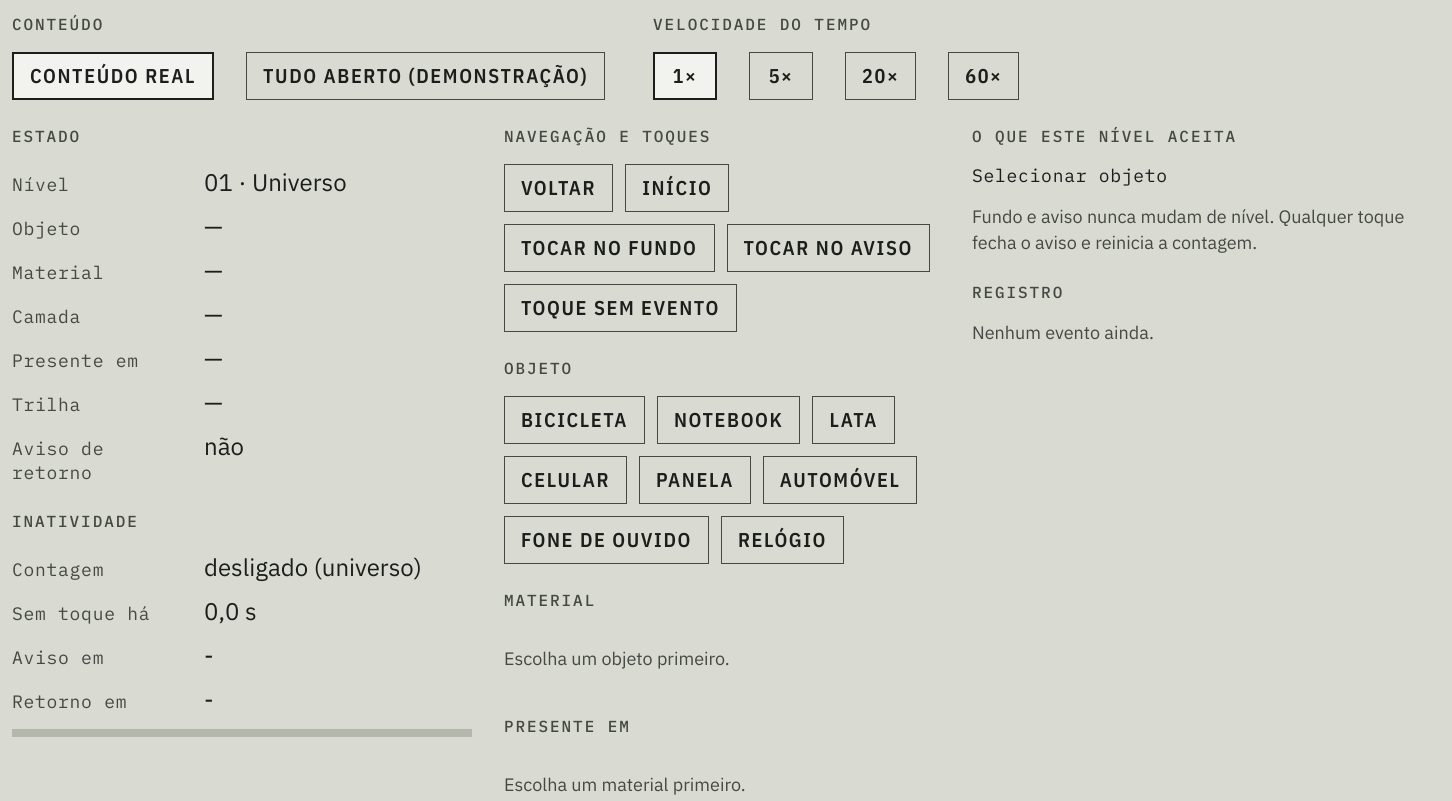
it: ExperienceTab › walks the short journey and writes the log
Click the button "Bicicleta": (574, 420) [504,396,645,444]
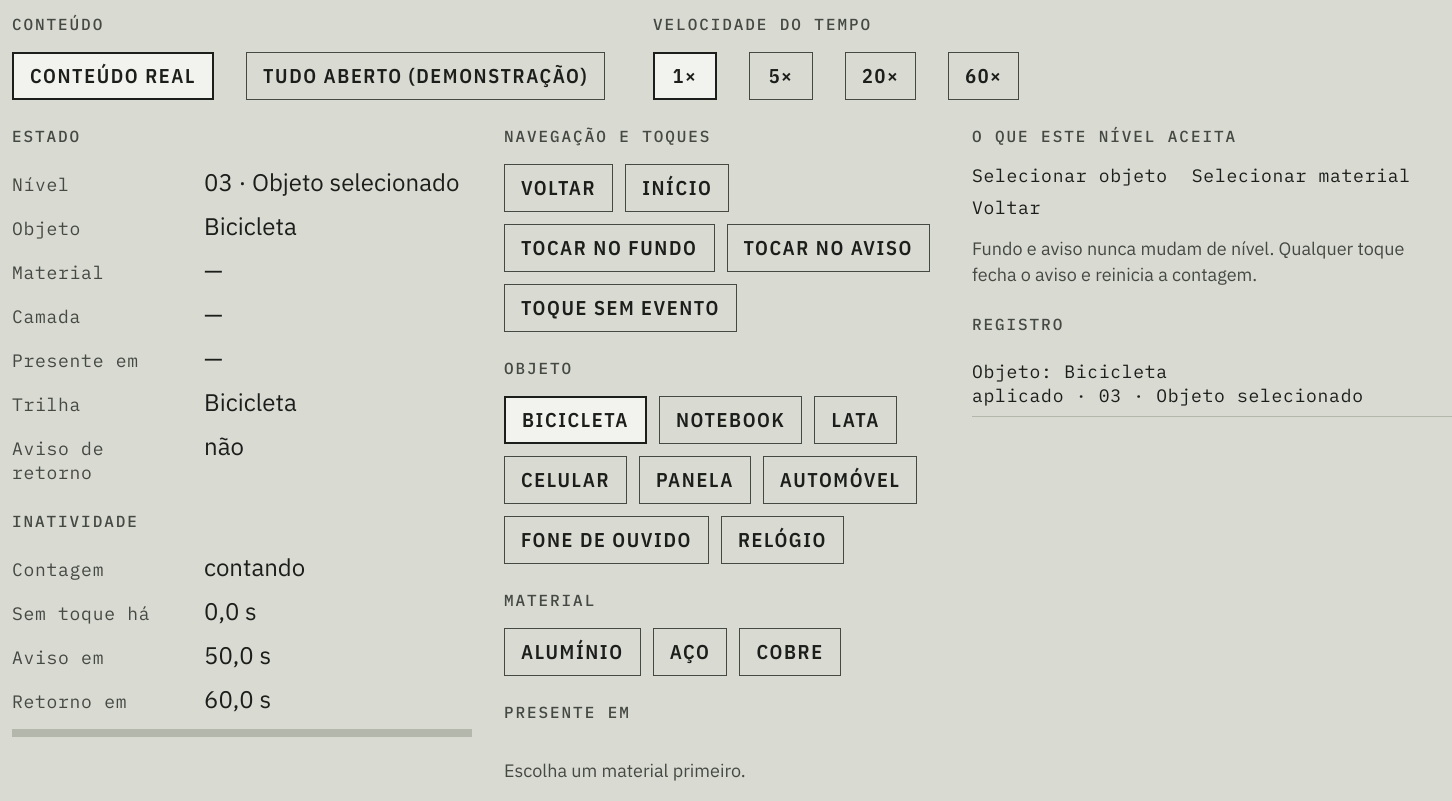
Click the button "Alumínio": (572, 652) [504,628,641,676]
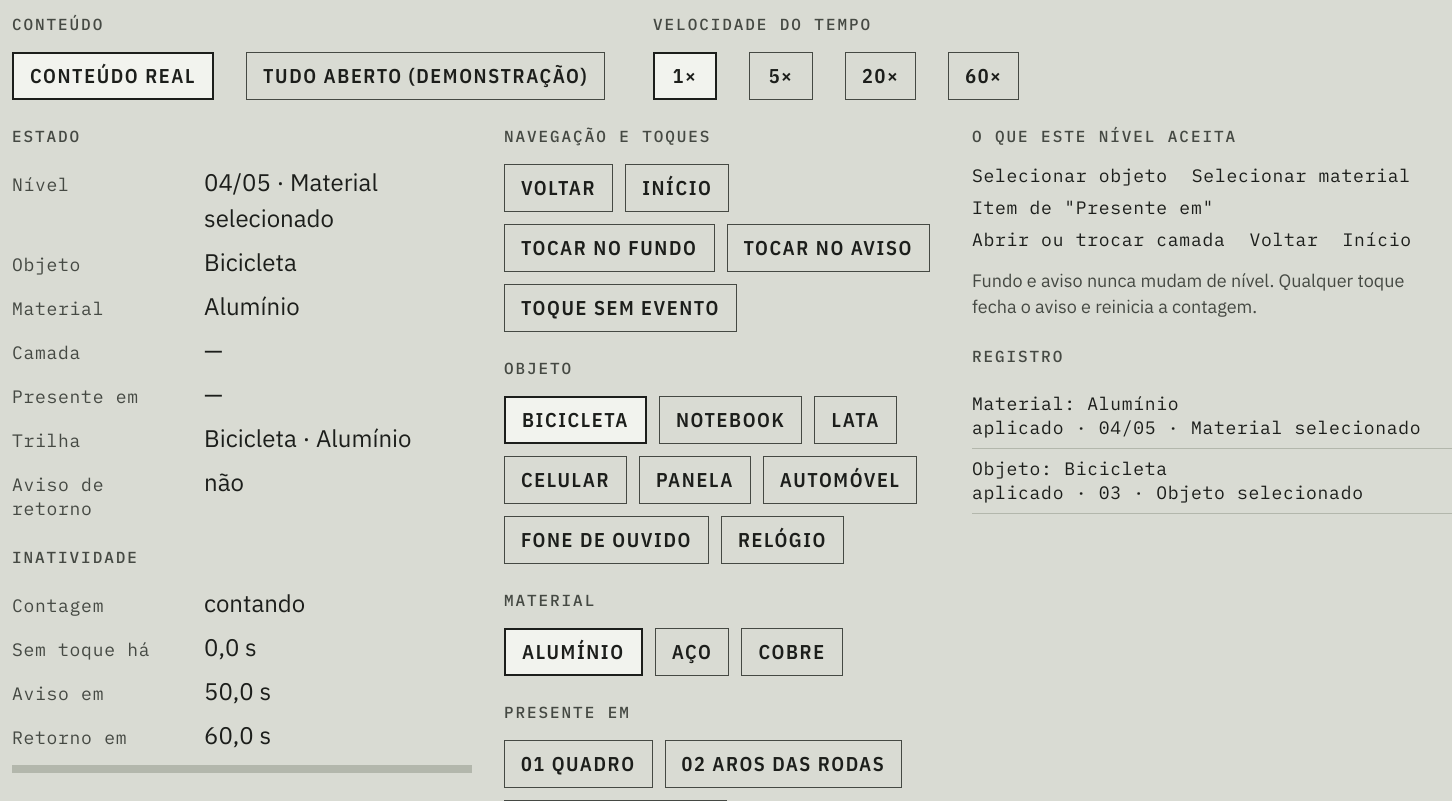
Expected: the text with test id "experience-idle-phase" reads "contando", [204,587,305,619]
Expected: the list with test id "experience-accepted" shows "Início", [1343,228,1412,251]
Click the button "Início": (677, 188) [625,164,729,212]
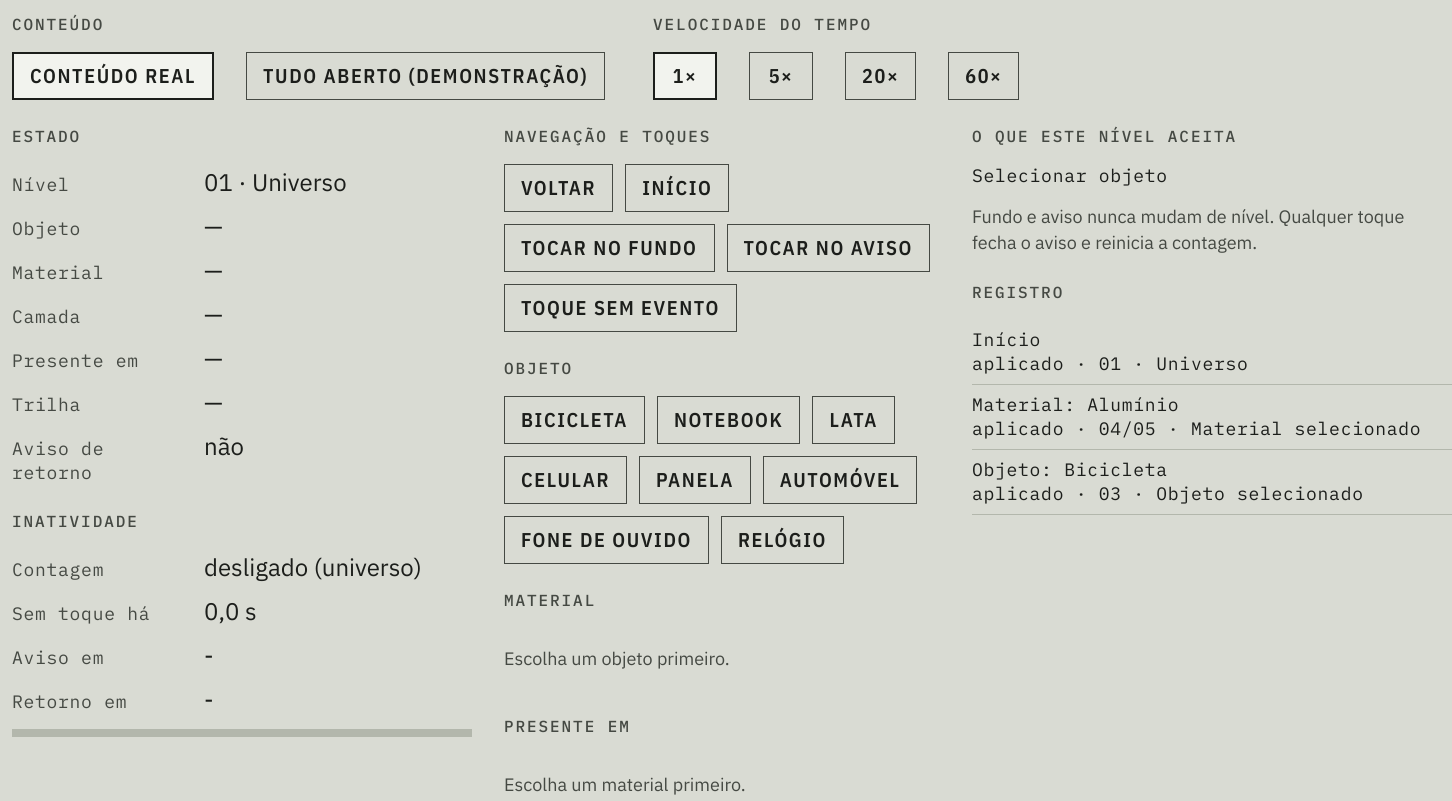
Expected: the text with test id "experience-idle-phase" reads "desligado (universo)", [204,551,422,583]
